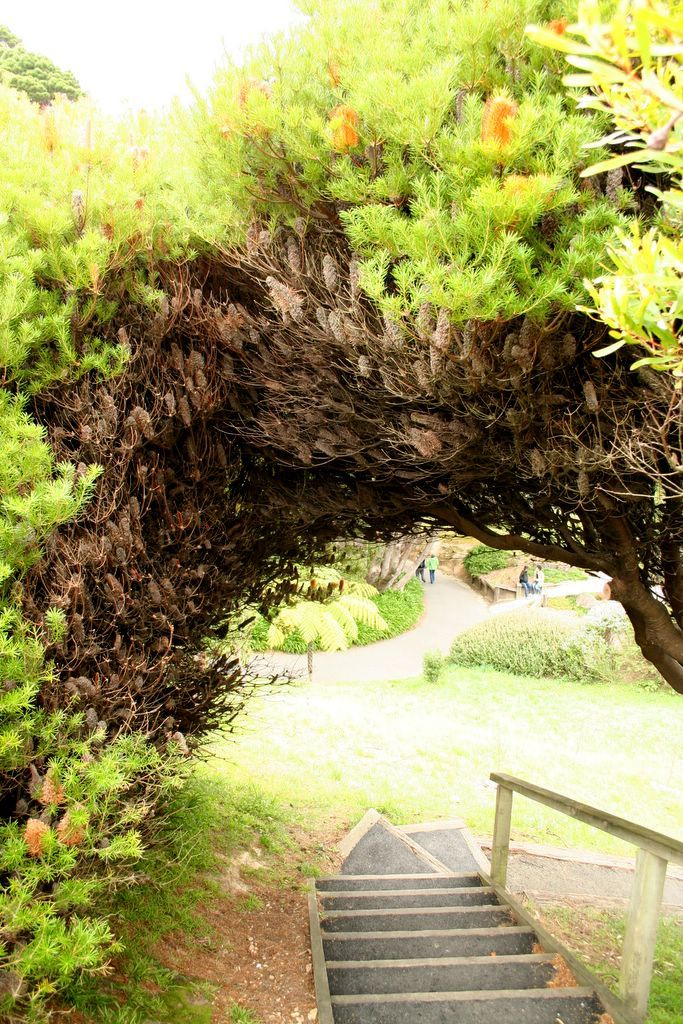Tree: (0, 0, 682, 1022)
